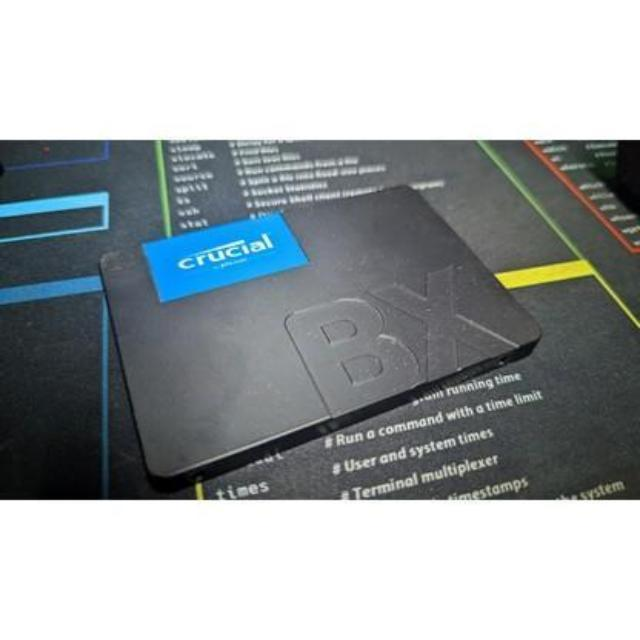DISK: (94, 177, 551, 491)
